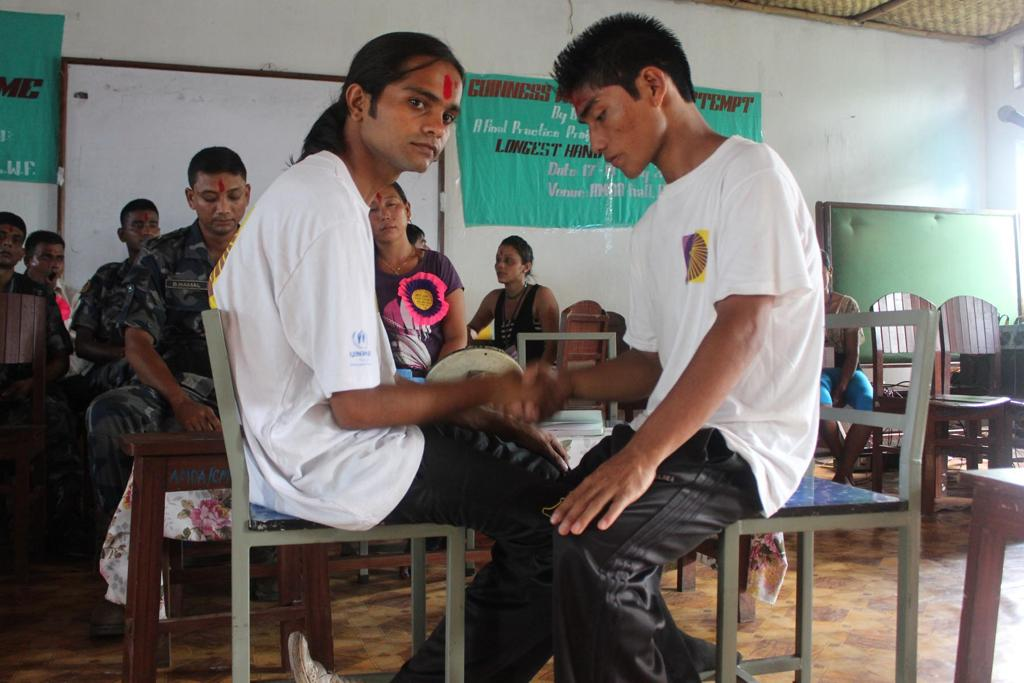face: (362, 65, 462, 172), (572, 76, 662, 179), (196, 177, 245, 233), (363, 191, 405, 242), (30, 244, 64, 286), (123, 213, 157, 253), (495, 245, 524, 282), (0, 224, 20, 267), (414, 235, 430, 259)
